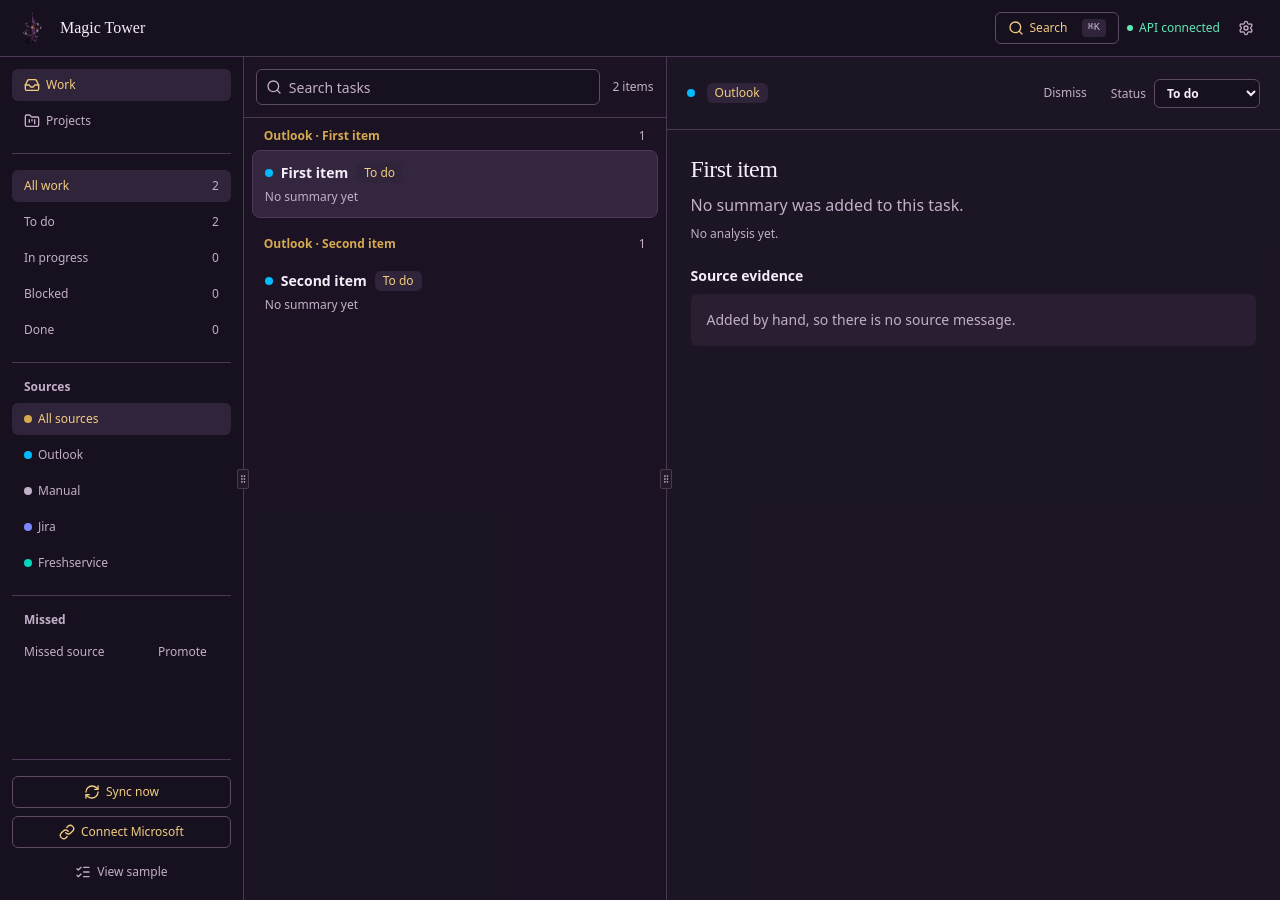
Test case: Promote and dismiss › promote on a fully loaded queue does not resurrect Load more or duplicate a row
expect the text "First item" is shown: met, box x1=281 y1=163 x2=348 y2=183
Click the button "Promote": (182, 652) x1=146 y1=636 x2=219 y2=668
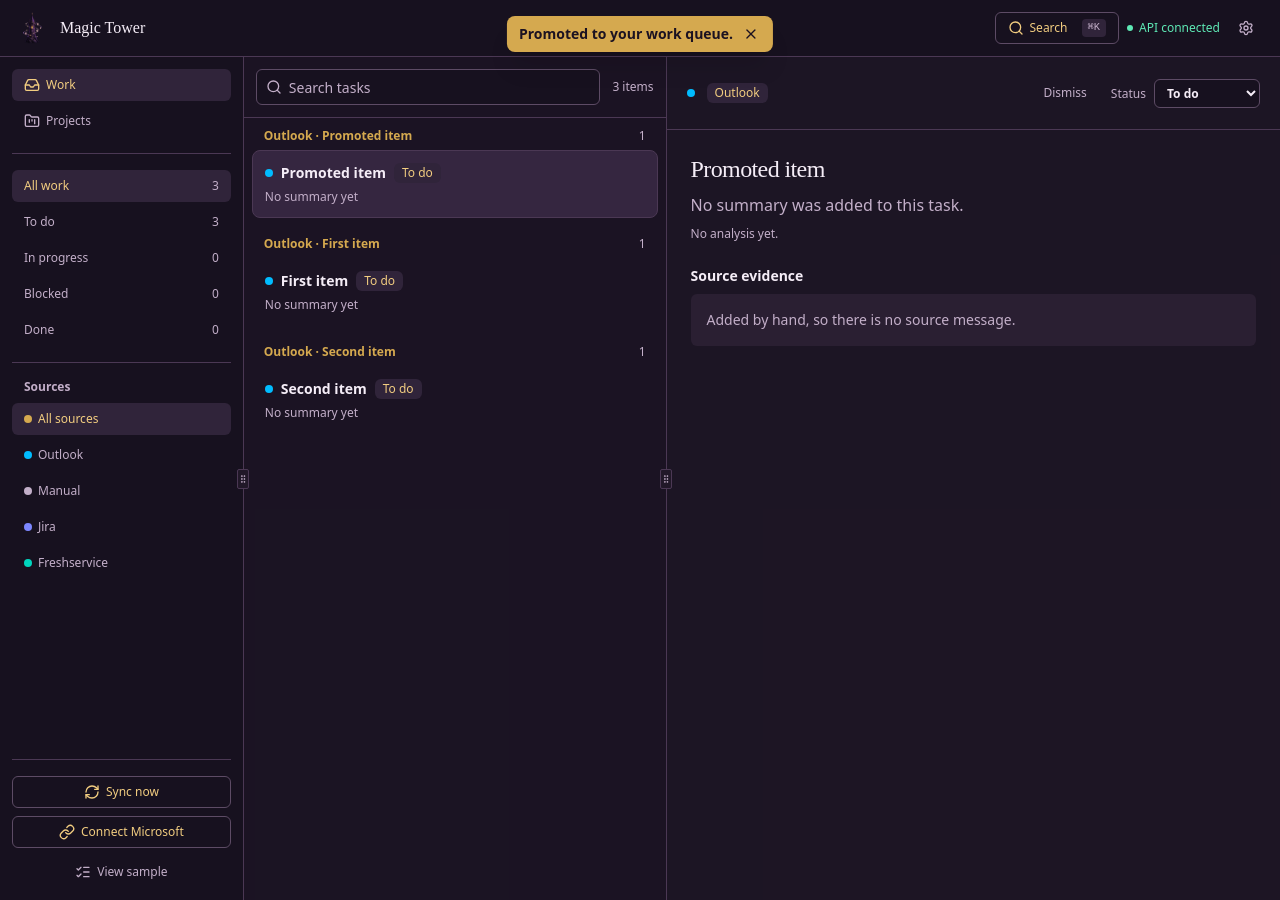
expect the text "Promoted item" is shown: met, box x1=281 y1=163 x2=386 y2=183
expect the text "Second item" is shown once: met, box x1=281 y1=379 x2=367 y2=399
